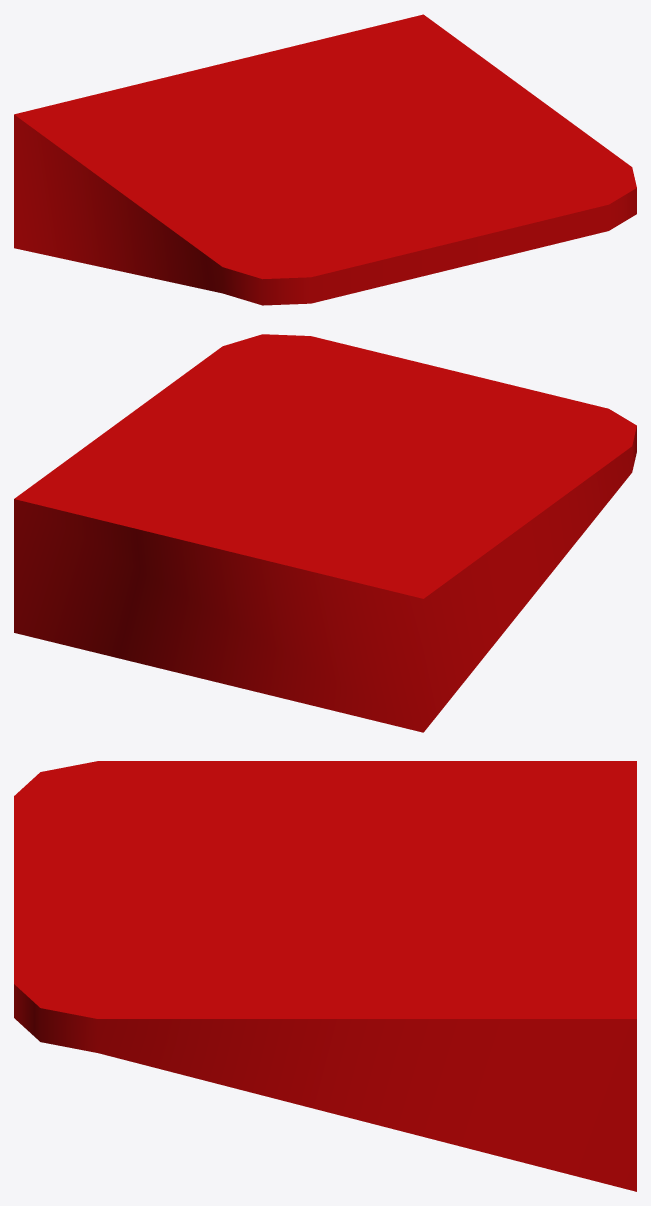
File: UCX_shelf_metal2.fbx
3 renders of one model, top to bottom at view 1: azimuth 30°, elevation 25°; view 2: azimuth 150°, elevation 25°; view 3: azimuth 270°, elevation 25°, orthographic. The views are drawn at different scales.
Visible parts, largest first — view 1: UCX_shelf_metal2; view 2: UCX_shelf_metal2; view 3: UCX_shelf_metal2.
Part boxes in pixels (x1,y1,x2,y2): UCX_shelf_metal2: [14, 14, 636, 305]; UCX_shelf_metal2: [14, 334, 636, 732]; UCX_shelf_metal2: [14, 761, 636, 1191].
Bounding box in the file's own units: 0.3675 × 0.1147 × 0.3748.
